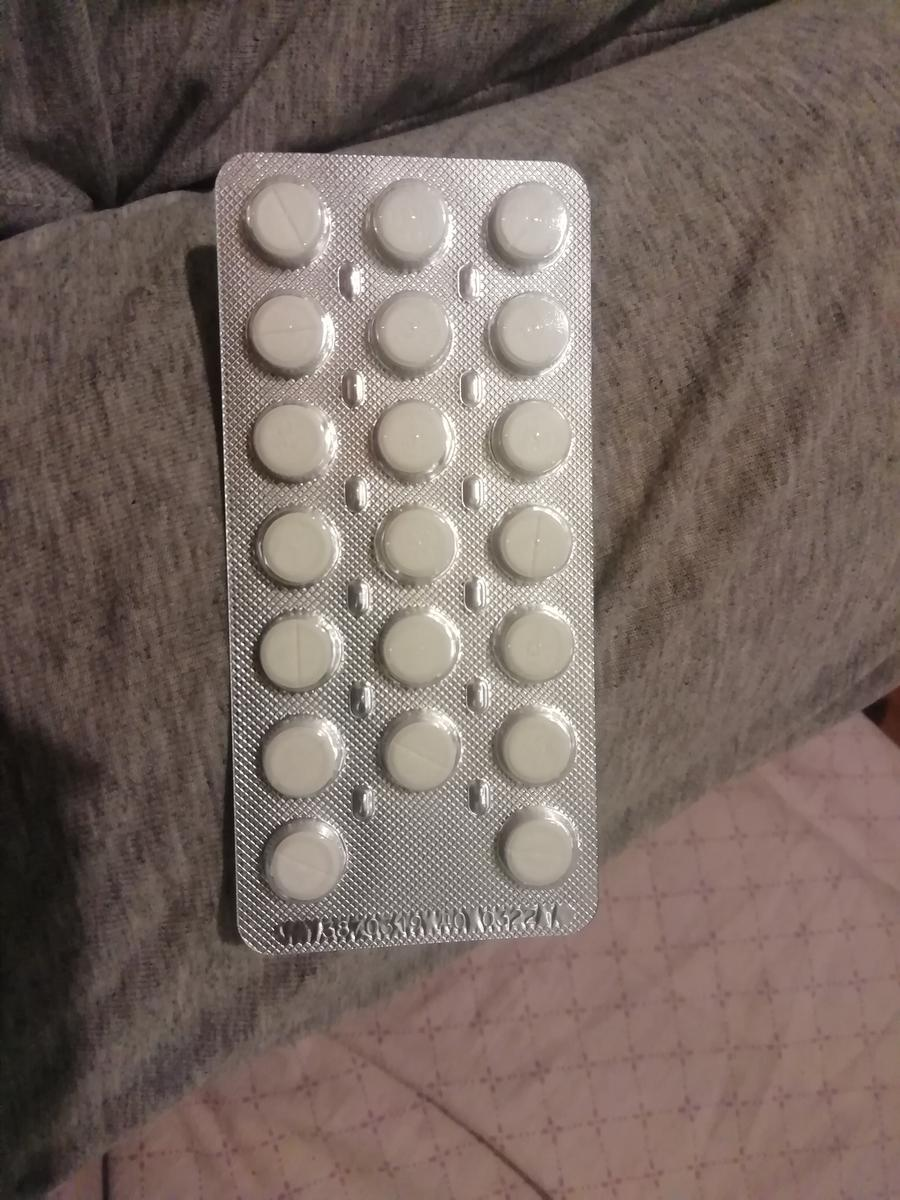tablet: (492, 179, 584, 285), (364, 179, 456, 285), (242, 289, 334, 395), (364, 289, 456, 395), (482, 283, 574, 389), (244, 397, 336, 503), (364, 391, 456, 497), (482, 393, 574, 499), (254, 501, 346, 607), (374, 495, 466, 601), (486, 497, 578, 603), (484, 495, 576, 601), (254, 607, 346, 713), (376, 609, 468, 715), (484, 611, 576, 717), (252, 711, 344, 817), (374, 705, 466, 811), (488, 703, 580, 809), (262, 805, 354, 911), (488, 801, 580, 907), (486, 799, 578, 905), (242, 187, 338, 275)
